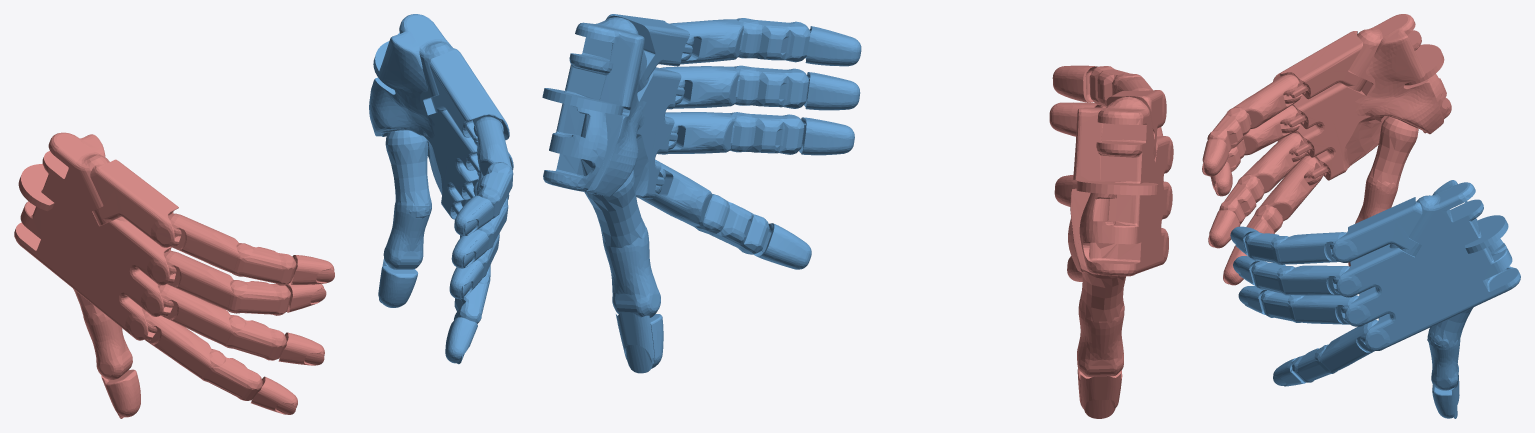
Rendered from toilet_paper_pc.glb.
3 views of the same model, side by side, from view 1: azimuth 30°, elevation 25°; view 2: azimuth 150°, elevation 25°; view 3: azimuth 270°, elevation 25° (orthographic). The views are drawn at different scales.
Visible parts, largest first — view 1: left_shadow_hand, right_shadow_hand; view 2: right_shadow_hand, left_shadow_hand; view 3: right_shadow_hand, left_shadow_hand.
Boxes of the visible parts, x1,y1,x2,y2 form: left_shadow_hand: (14,132,334,418); right_shadow_hand: (369,14,513,364); right_shadow_hand: (542,14,861,373); left_shadow_hand: (1049,65,1173,418); right_shadow_hand: (1230,180,1520,418); left_shadow_hand: (1202,14,1451,285).
Bounding box in the file's own units: 0.3087 × 0.1823 × 0.2142.
